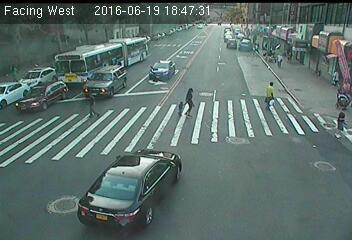neg: (201, 42, 226, 76), (143, 54, 164, 81), (180, 49, 201, 76), (226, 42, 243, 66), (102, 62, 117, 83)
pos: (322, 102, 348, 138), (178, 84, 204, 118), (259, 78, 282, 109), (79, 92, 100, 120), (326, 66, 341, 85), (273, 49, 287, 68)
